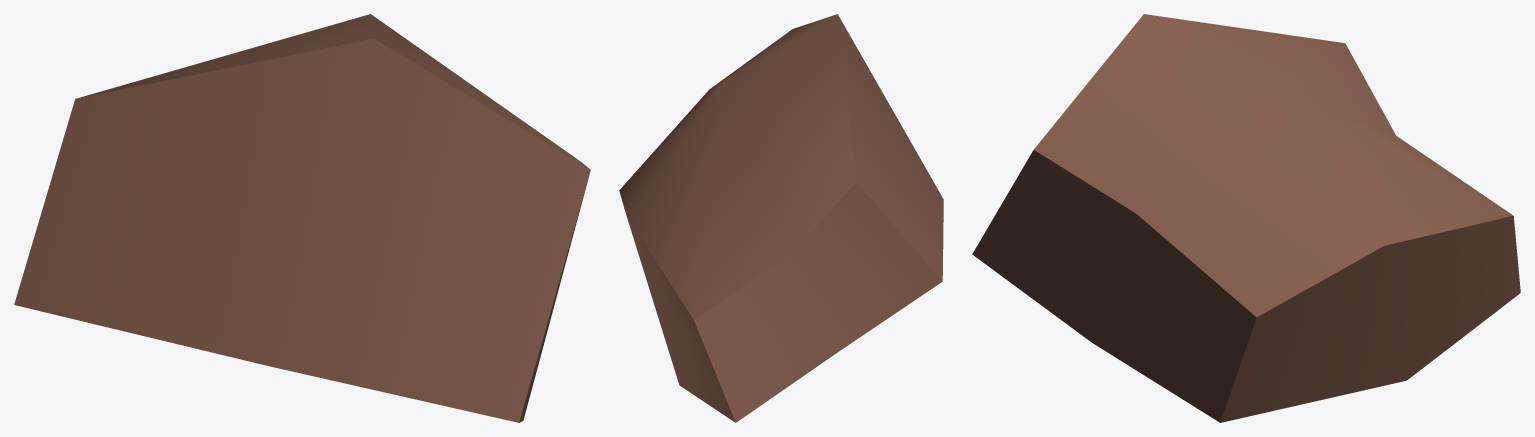
Rendered from cozy_lake_stone1_002.glb.
3 renders of one model, left to right at view 1: azimuth 30°, elevation 25°; view 2: azimuth 150°, elevation 25°; view 3: azimuth 270°, elevation 25°, orthographic. The views are drawn at different scales.
Parts seen in each view (by area): view 1: Stone1_002_Dirt_0; view 2: Stone1_002_Dirt_0; view 3: Stone1_002_Dirt_0.
Part boxes in pixels (bbox=[...]): Stone1_002_Dirt_0: bbox=[14, 14, 590, 422]; Stone1_002_Dirt_0: bbox=[619, 14, 943, 422]; Stone1_002_Dirt_0: bbox=[972, 14, 1520, 422].
Bounding box in the file's own units: 41.88 × 35.21 × 51.17.
